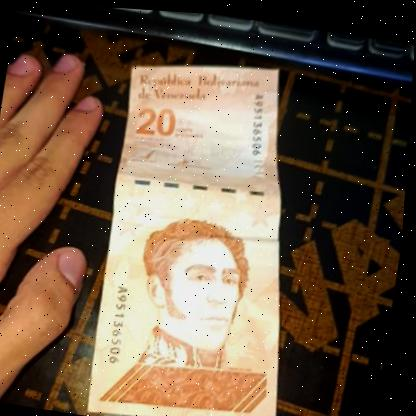twenty-front-vef: (86, 41, 331, 416)
